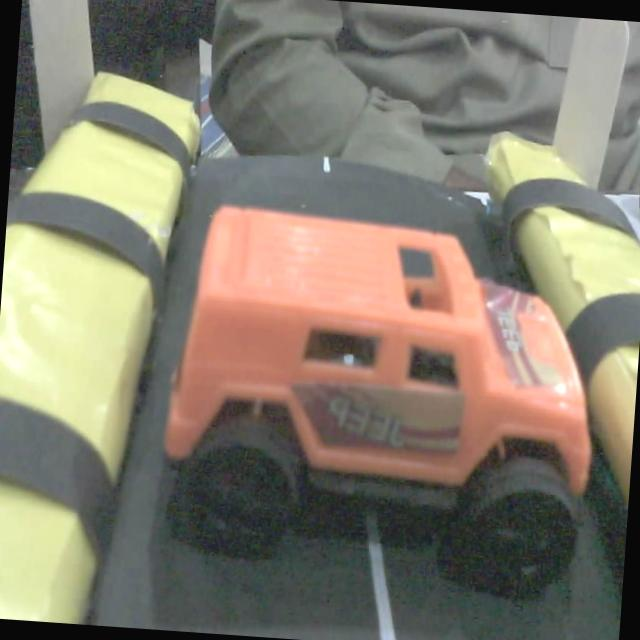OneCar: (165, 206, 590, 589)
